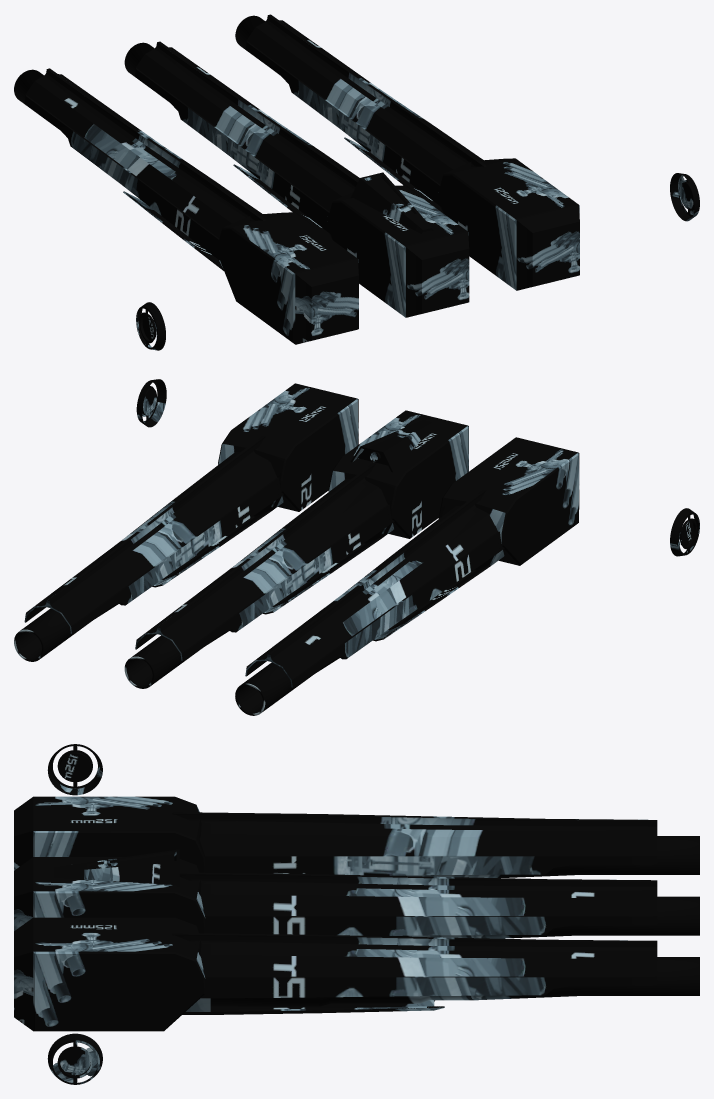
Rendered from FIRESTORM_125mmTripleAutoCannon_Elevation.fbx.
The picture shows the model from 3 angles, top to bottom: view 1: azimuth 30°, elevation 25°; view 2: azimuth 150°, elevation 25°; view 3: azimuth 270°, elevation 25°; orthographic projection. The views are drawn at different scales.
Parts seen in each view (by area): view 1: BarrelArmor, MBCElevationBase, HingeCovers, CameraHousing, Barrel; view 2: BarrelArmor, MBCElevationBase, Barrel, HingeCovers, CameraHousing; view 3: BarrelArmor, MBCElevationBase, Barrel, HingeCovers, CameraHousing.
Boxes of the visible parts, x1,y1,x2,y2 form: BarrelArmor: (24,14,486,270); MBCElevationBase: (218,158,579,344); HingeCovers: (136,173,699,350); CameraHousing: (350,172,433,233); Barrel: (14,15,265,130); BarrelArmor: (24,436,504,687); MBCElevationBase: (218,383,579,565); Barrel: (14,570,443,715); HingeCovers: (136,379,699,556); CameraHousing: (350,420,433,472); BarrelArmor: (172,812,657,1014); MBCElevationBase: (14,796,205,1031); Barrel: (210,836,699,1006); HingeCovers: (47,744,102,1084); CameraHousing: (54,849,179,887).
Size of the model in its own units: 7.24 by 1.11 by 7.07.
